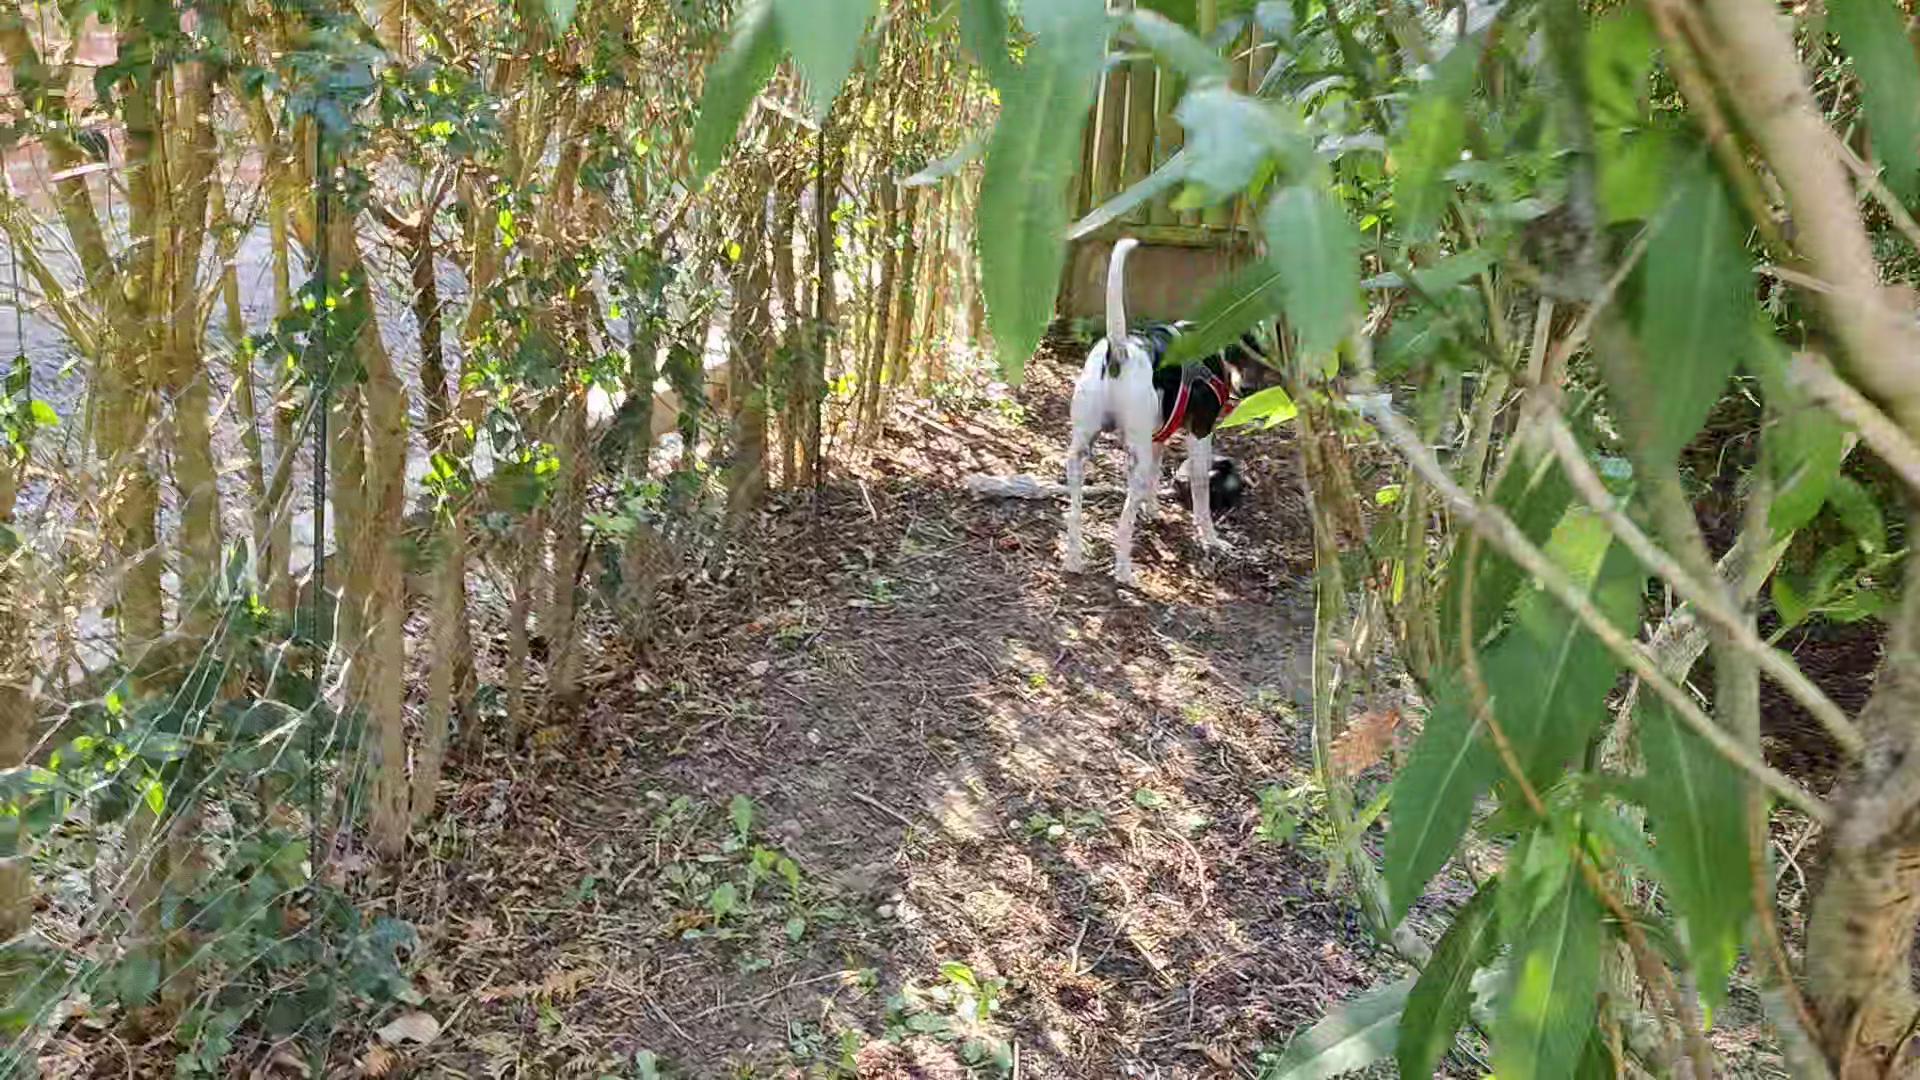Dog: (1054, 228, 1287, 585)
